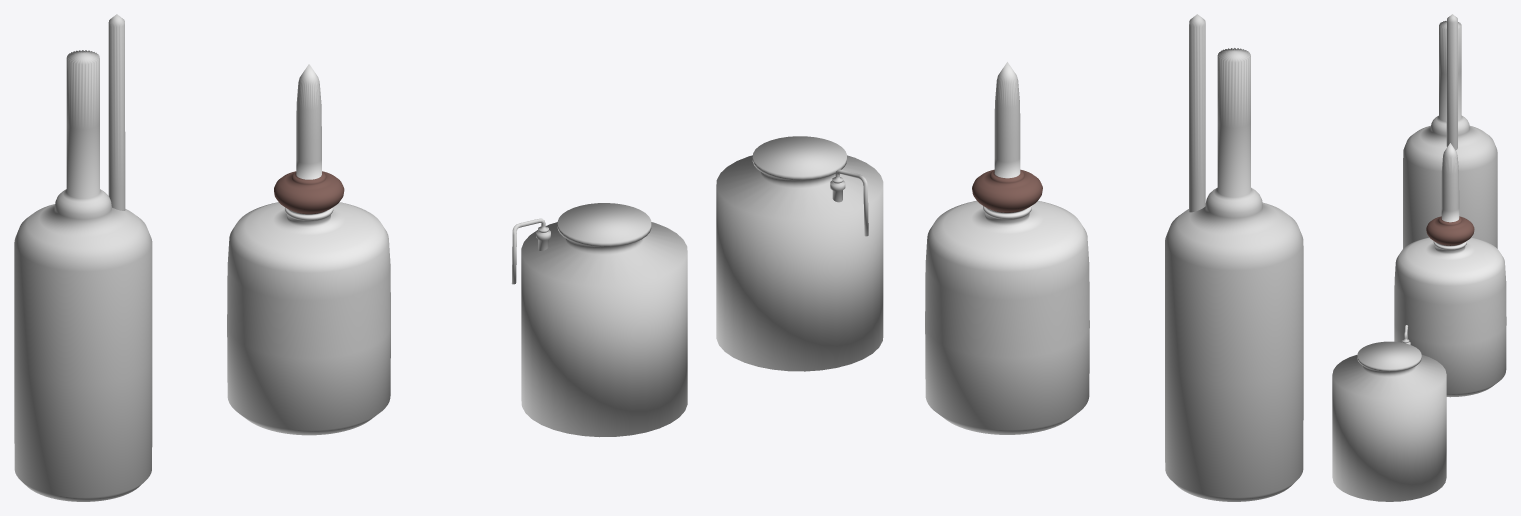
Rendered from Distillery.fbx.
3 views of the same model, side by side, from view 1: azimuth 30°, elevation 25°; view 2: azimuth 150°, elevation 25°; view 3: azimuth 270°, elevation 25° (orthographic). The views are drawn at different scales.
Visible parts, largest first — view 1: Cylinder.001, Cylinder, Cylinder.002; view 2: Cylinder.001, Cylinder, Cylinder.002; view 3: Cylinder, Cylinder.002, Cylinder.001.
Boxes of the visible parts, bbox=[...] form: Cylinder.001: bbox=[14, 14, 152, 501]; Cylinder: bbox=[227, 64, 390, 435]; Cylinder.002: bbox=[511, 203, 687, 437]; Cylinder.001: bbox=[1165, 14, 1303, 501]; Cylinder: bbox=[925, 62, 1089, 434]; Cylinder.002: bbox=[716, 136, 883, 371]; Cylinder: bbox=[1394, 143, 1506, 397]; Cylinder.002: bbox=[1332, 325, 1446, 501]; Cylinder.001: bbox=[1403, 14, 1497, 248].
Size of the model in its own units: 1094 by 793 by 396.
